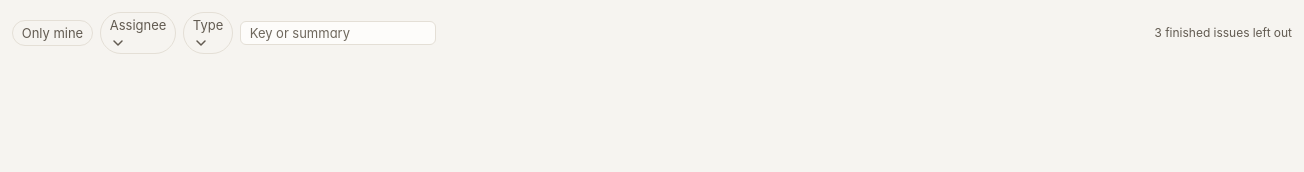
Test case: the quick filters › say how much finished work the board left out and link to it, filter or not
The width and height of the screenshot is (1304, 172).
Expected: the button "Clear filters" is not shown
Click the button "Only mine" at {"x": 52, "y": 33}, box [12,20,93,46]
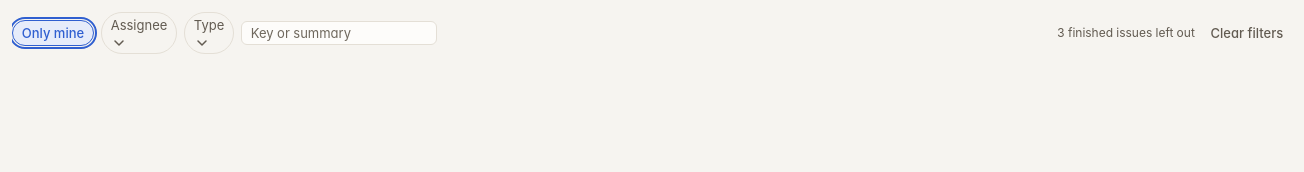
Expected: the link "3 finished issues left out" is shown, [1057,25,1195,40]
Now the button "Clear filters" is shown, box [1202,20,1292,45]
